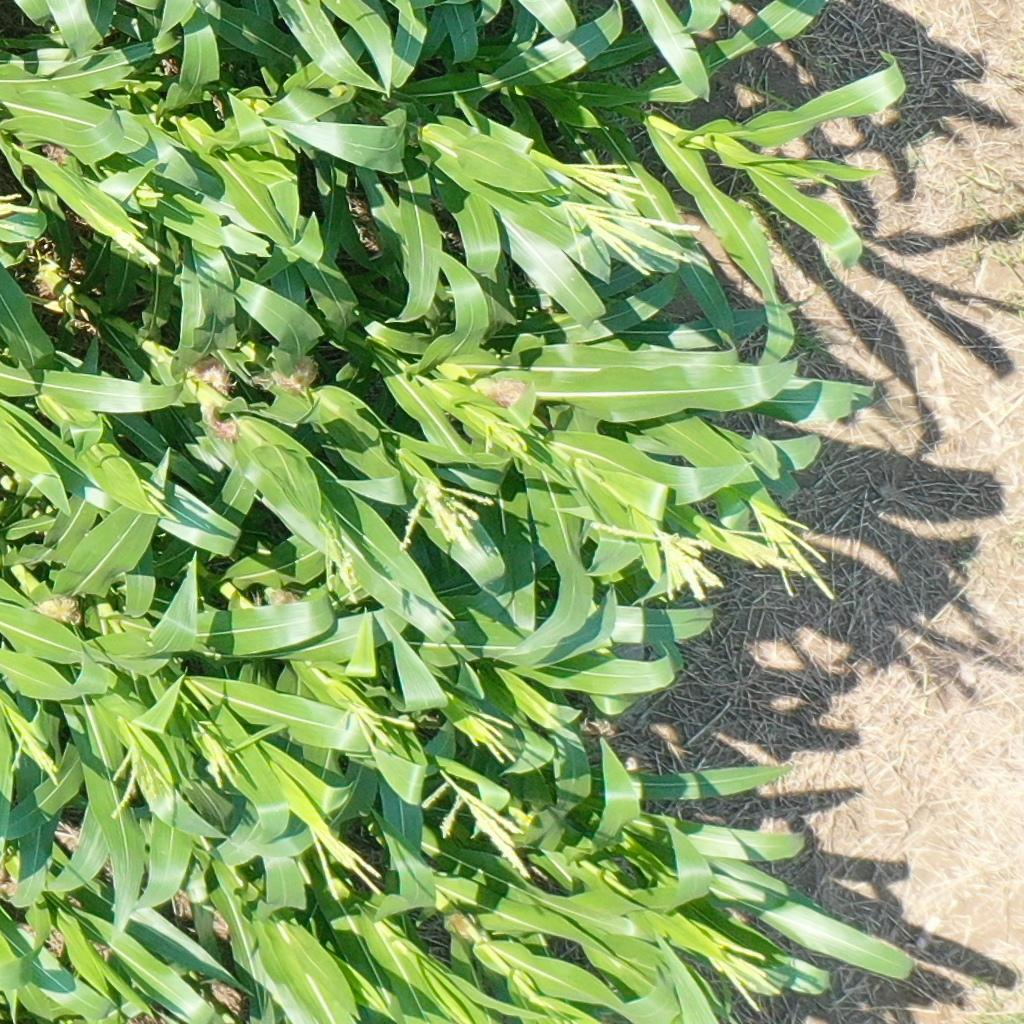Tassel: (418, 767, 540, 881), (585, 513, 725, 603), (556, 197, 702, 276), (748, 496, 837, 600), (397, 471, 497, 557), (99, 720, 178, 816), (308, 817, 384, 903), (706, 512, 804, 573), (709, 936, 784, 1013), (1, 701, 63, 782), (333, 694, 416, 754), (318, 516, 367, 606), (561, 157, 656, 203), (472, 400, 540, 461), (190, 713, 244, 786), (459, 703, 518, 763), (103, 213, 164, 269), (142, 478, 176, 522), (1, 191, 36, 231), (130, 183, 163, 201)
